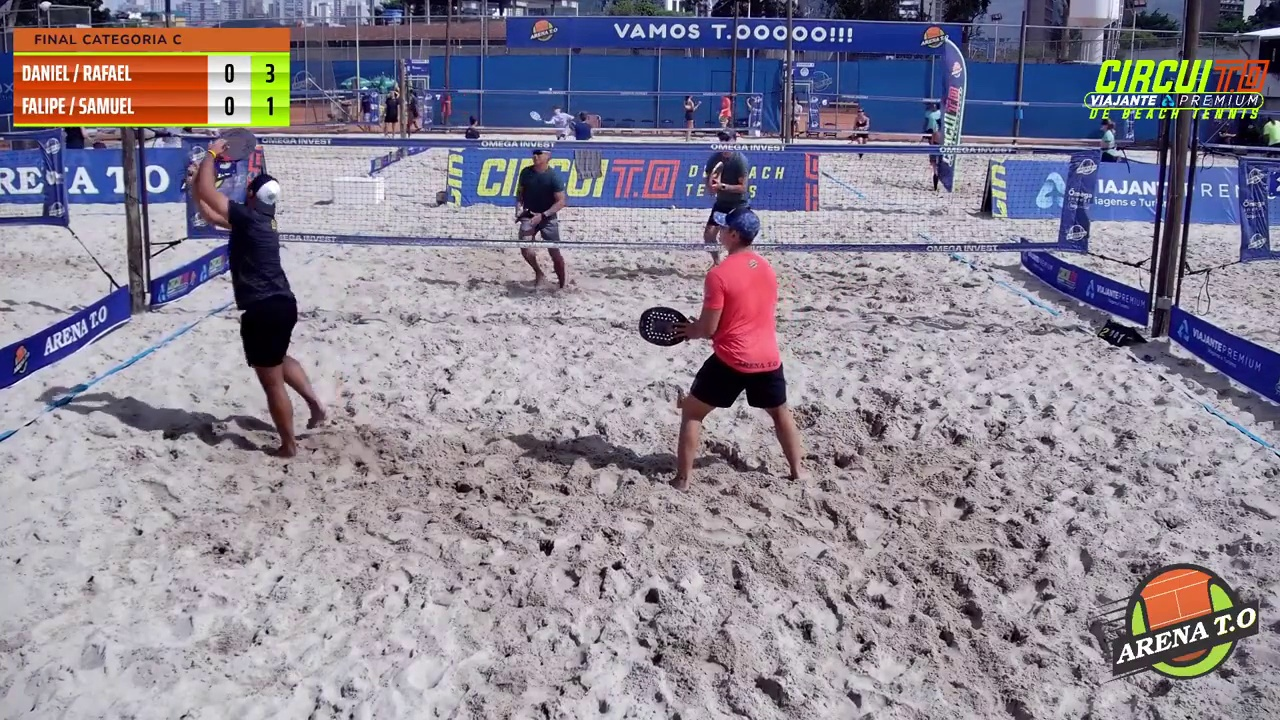court_line: (543, 0, 678, 490)
